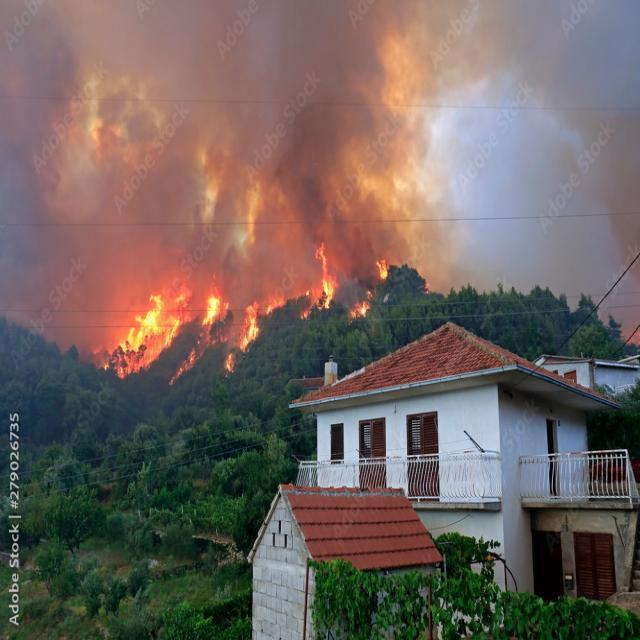Fire: (106, 245, 397, 388)
Smoke: (0, 0, 522, 241)
